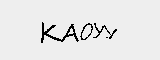А: (61, 24, 80, 43)
К: (41, 22, 61, 44)
О: (81, 20, 92, 41)
У: (104, 25, 117, 43), (92, 20, 103, 40)
